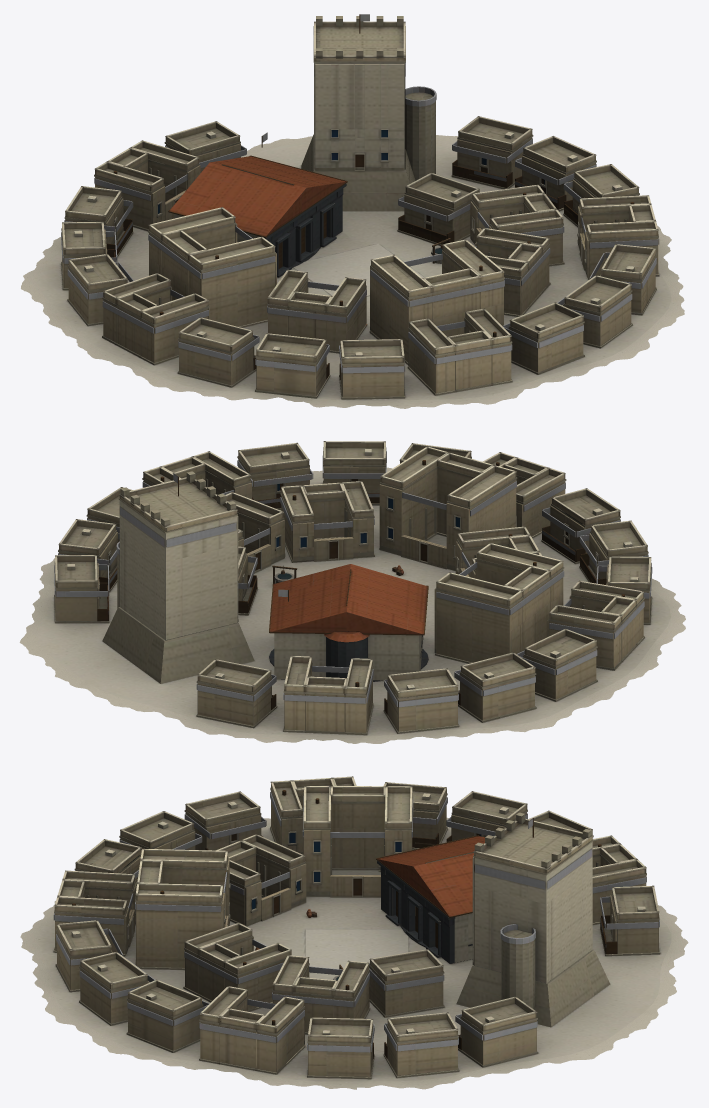
File: kingdoms-town-big-a-israelite.glb
3 renders of one model, top to bottom at view 1: azimuth 30°, elevation 25°; view 2: azimuth 150°, elevation 25°; view 3: azimuth 270°, elevation 25°, orthographic.
Parts seen in each view (by area): view 1: LOD0; view 2: LOD0; view 3: LOD0.
Part boxes in pixels (box(x1,y1,x2,y2)): LOD0: box(21, 14, 684, 408); LOD0: box(19, 441, 685, 743); LOD0: box(20, 776, 688, 1089).
Size of what is drawn, in the model's own units: 7.88 by 2.3 by 7.96.
3 materials, 3 textured.
